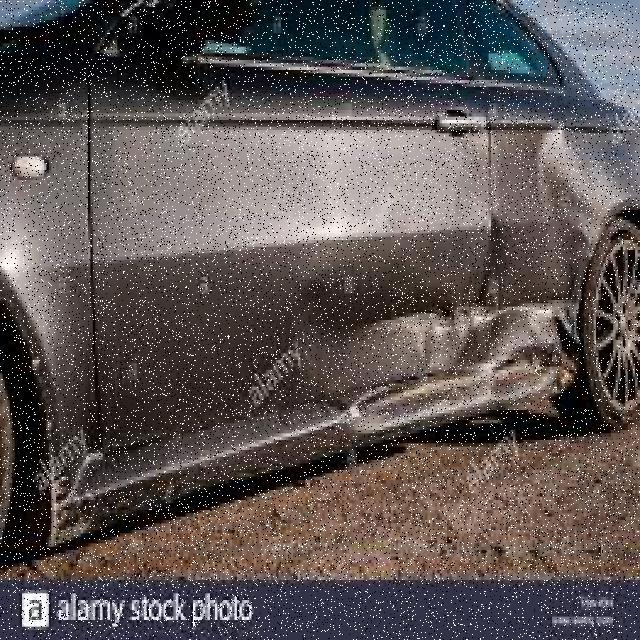RunningBoard-Dent: (345, 363, 570, 436)
doorouter-dent: (95, 77, 490, 387)
quaterpanel-dent: (491, 88, 638, 362)
